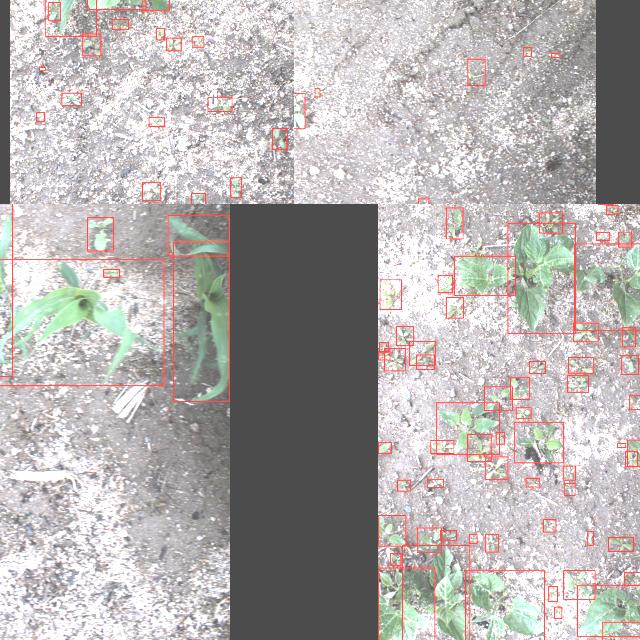crop: (0, 259, 164, 385), (173, 241, 229, 401), (507, 222, 575, 334), (401, 544, 469, 640), (573, 243, 640, 329), (464, 570, 543, 640), (377, 567, 434, 640), (576, 584, 640, 635), (168, 214, 228, 256), (454, 256, 514, 294), (44, 0, 96, 35)
weed: (436, 402, 498, 454), (514, 422, 564, 462), (377, 514, 405, 546), (87, 216, 113, 250), (564, 570, 594, 598), (602, 621, 640, 640), (484, 386, 512, 410), (379, 279, 401, 309), (466, 434, 490, 461), (416, 526, 440, 552), (408, 341, 434, 365), (484, 456, 508, 479), (572, 322, 598, 342), (446, 208, 462, 238), (538, 212, 562, 232), (468, 58, 484, 86), (384, 348, 404, 370), (509, 376, 528, 398), (82, 33, 100, 55), (566, 374, 588, 392), (207, 96, 231, 112), (568, 356, 592, 372), (608, 537, 634, 551), (294, 92, 304, 128), (395, 325, 413, 345), (446, 296, 462, 318), (627, 439, 640, 465), (142, 182, 160, 200), (622, 354, 638, 374), (436, 274, 452, 292), (272, 128, 286, 148), (141, 0, 168, 10), (430, 440, 452, 452), (484, 533, 498, 551), (415, 354, 433, 368), (61, 92, 81, 104), (622, 326, 634, 346), (48, 2, 60, 20), (230, 177, 240, 197), (542, 518, 556, 532), (618, 232, 632, 246), (624, 572, 640, 584), (625, 450, 637, 466), (529, 361, 545, 373), (166, 38, 180, 51), (628, 394, 640, 409), (563, 465, 575, 479), (190, 193, 205, 204), (111, 19, 127, 29), (148, 116, 164, 126), (426, 478, 442, 488), (440, 530, 456, 540), (516, 407, 530, 418), (396, 480, 409, 490), (103, 269, 119, 277), (525, 478, 539, 487), (191, 36, 203, 46), (390, 553, 400, 565), (378, 442, 390, 452), (564, 483, 574, 495), (377, 350, 389, 360), (596, 232, 610, 240), (548, 586, 556, 600), (606, 204, 618, 213), (378, 342, 388, 352), (155, 27, 163, 39), (495, 432, 503, 444), (553, 606, 561, 618), (587, 531, 593, 545), (523, 46, 531, 56), (36, 112, 44, 120), (468, 534, 476, 542), (418, 198, 428, 204), (616, 442, 626, 448), (550, 53, 560, 57), (314, 88, 318, 96), (38, 66, 44, 70)
